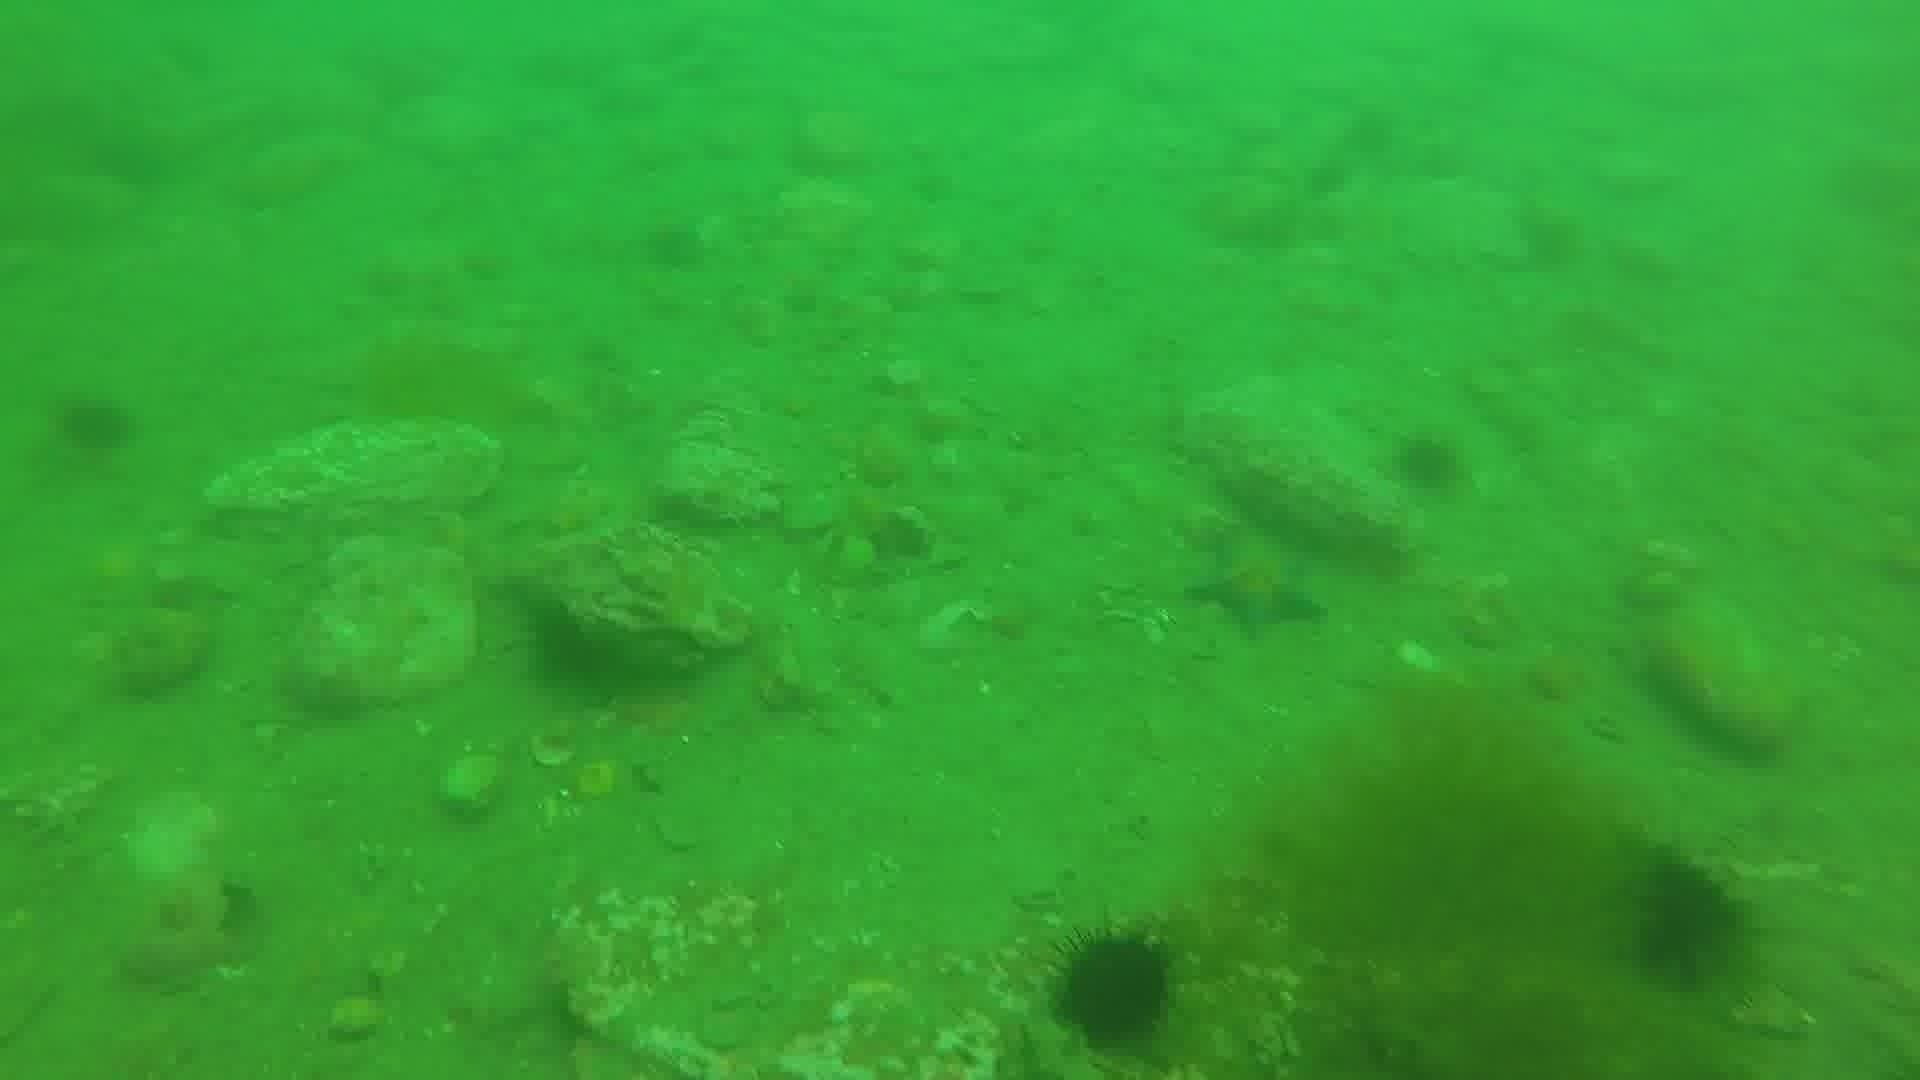echinus: (1622, 852, 1750, 992), (1044, 924, 1179, 1051), (50, 392, 138, 462), (1387, 430, 1468, 498)
starfish: (1183, 527, 1329, 644)
